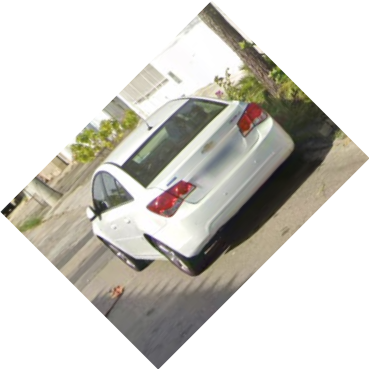car: (87, 97, 295, 276)
